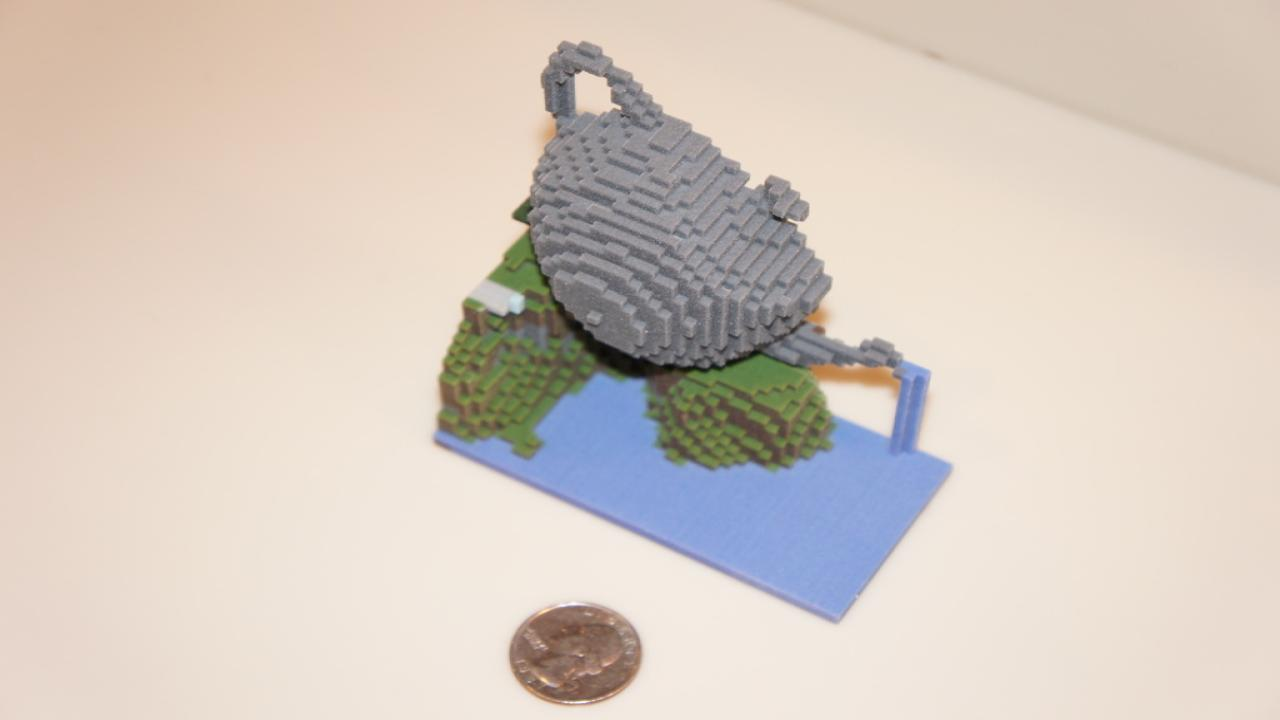coin: (506, 601, 645, 706)
